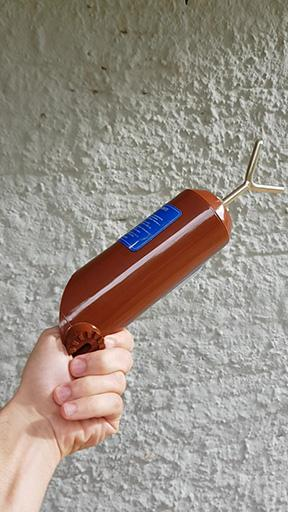Detector_Tensao_Contato: (59, 139, 285, 351)
